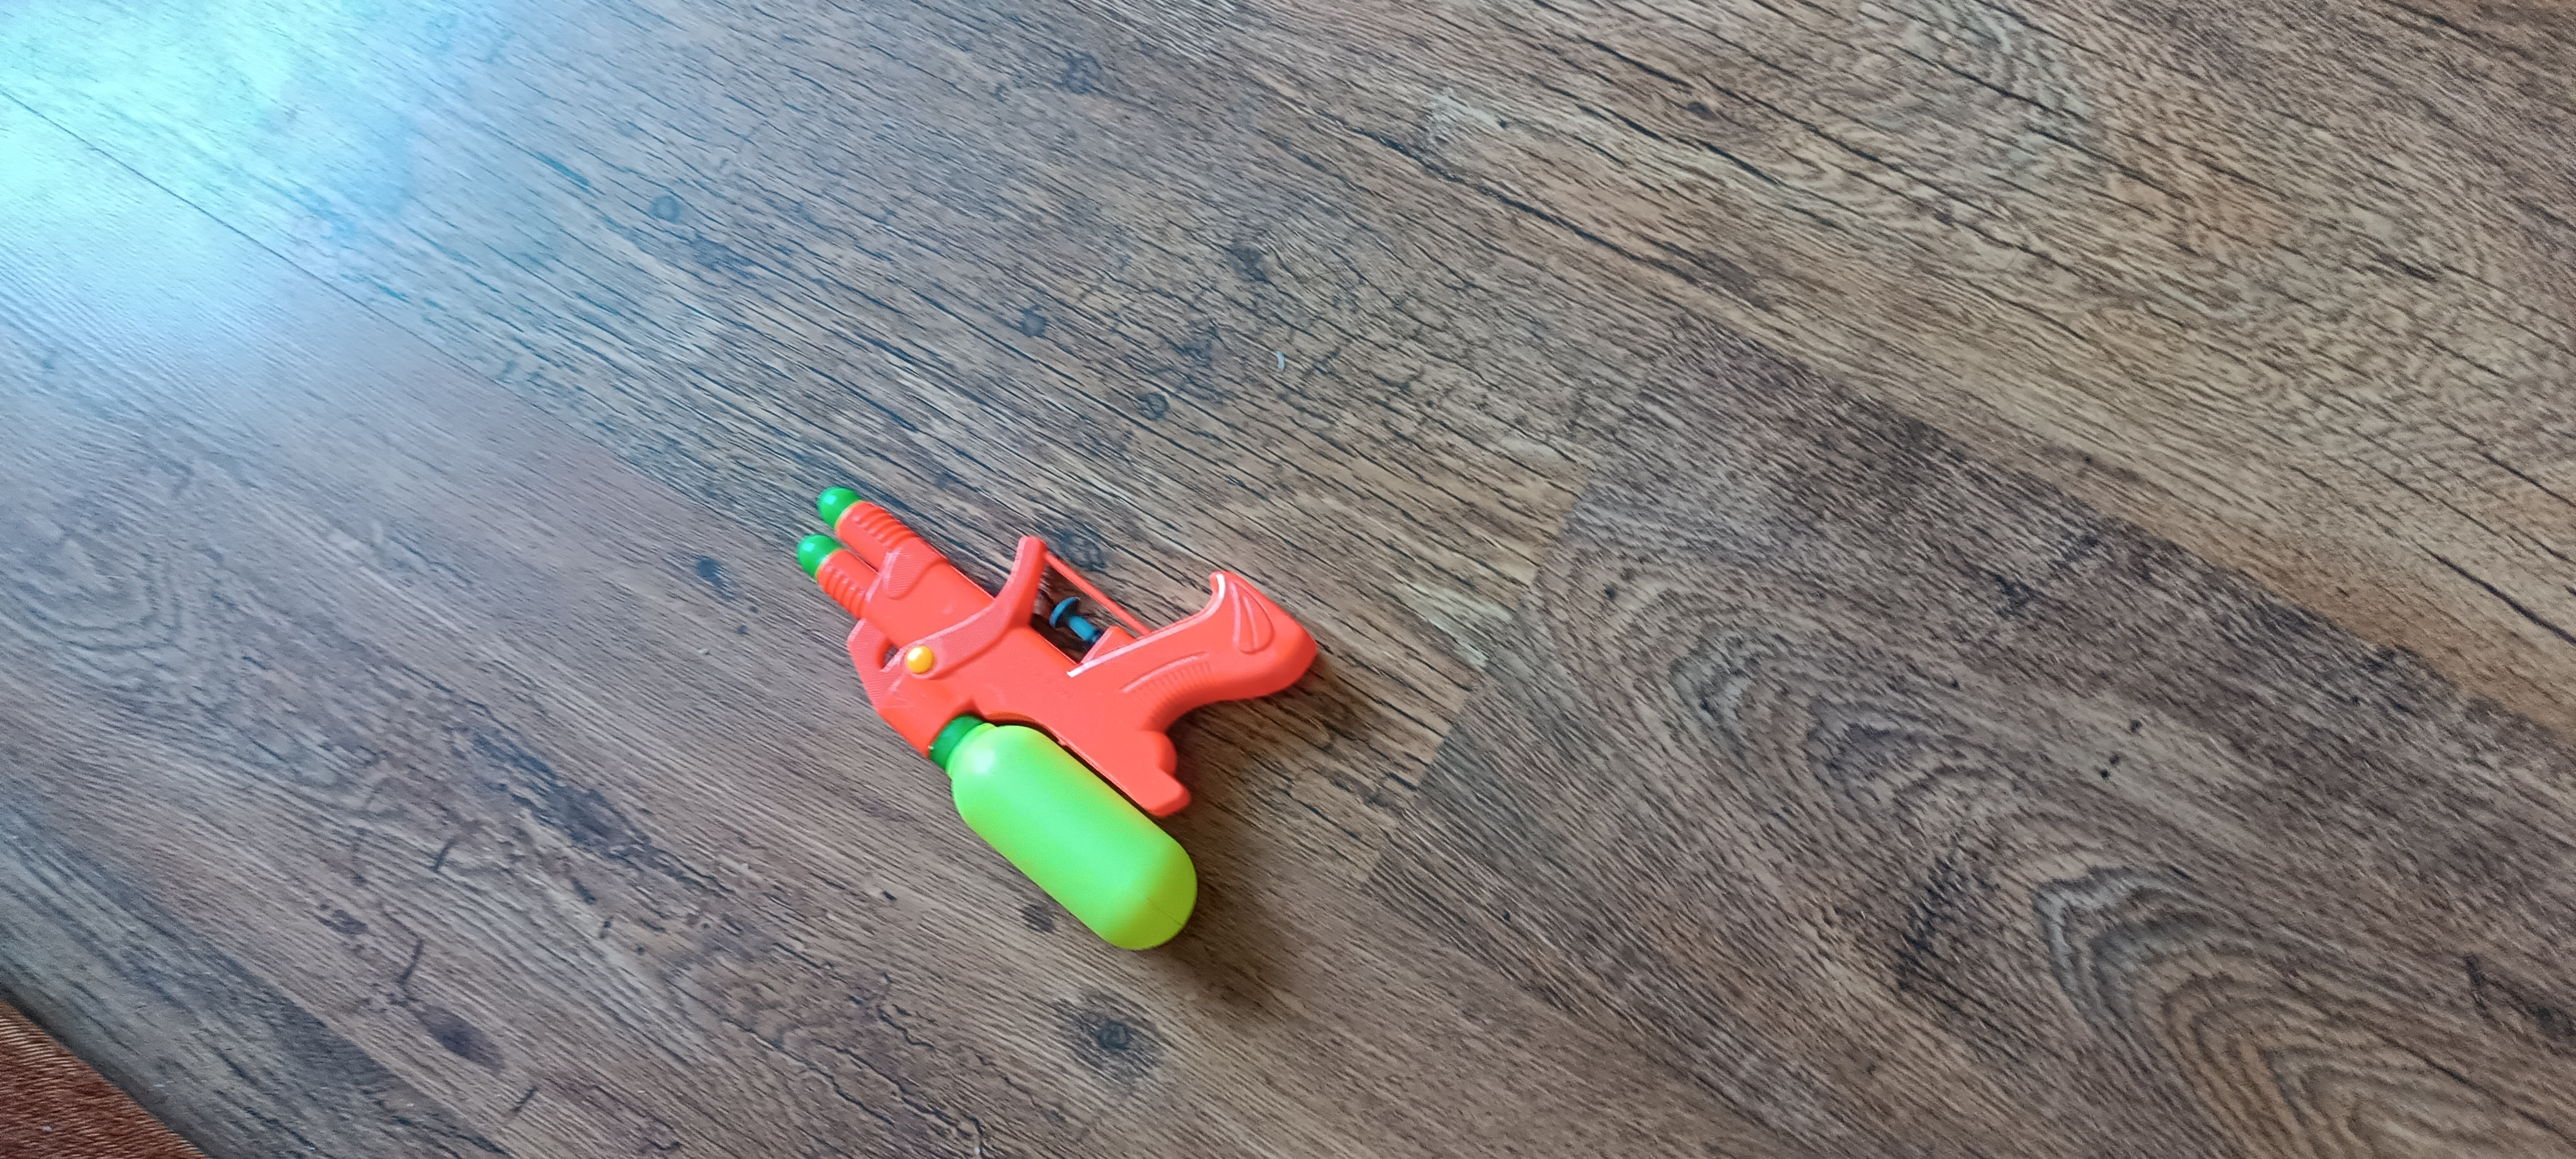Water Gun: (797, 488, 1321, 952)
